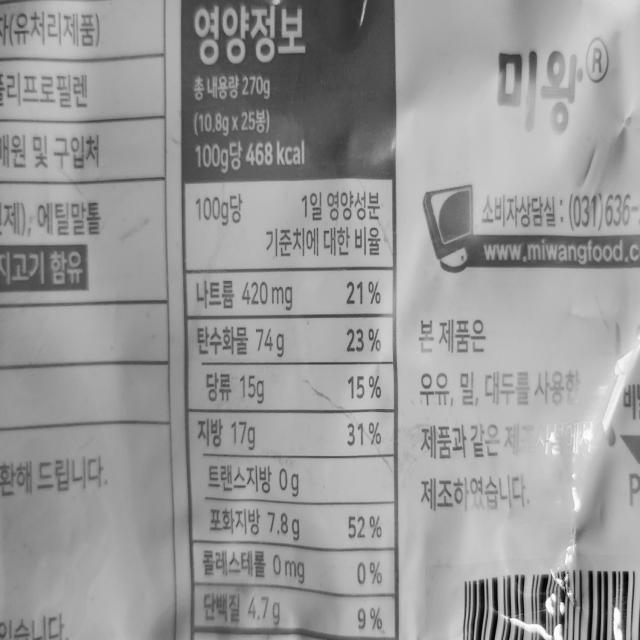Nutrition Label: (173, 0, 408, 640)
